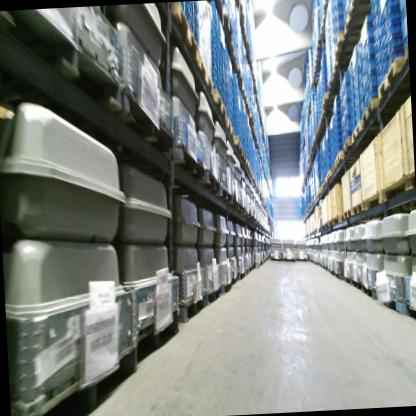pallet: (51, 17, 122, 113), (66, 337, 144, 416), (108, 76, 178, 159), (135, 304, 184, 373), (373, 56, 405, 111), (166, 144, 201, 182), (341, 1, 375, 38), (168, 4, 195, 50), (358, 94, 389, 129), (194, 53, 214, 95), (204, 279, 229, 308), (332, 34, 359, 60), (335, 147, 367, 168), (351, 121, 375, 148), (199, 165, 222, 193), (179, 294, 205, 318), (379, 290, 405, 313), (208, 89, 226, 121), (331, 56, 353, 80), (216, 113, 236, 138), (220, 11, 233, 43), (321, 90, 343, 108), (330, 159, 353, 176), (326, 167, 349, 184), (217, 182, 232, 207), (327, 76, 347, 94), (360, 281, 378, 301), (310, 60, 326, 78), (351, 274, 365, 294), (314, 32, 327, 53), (222, 46, 237, 63), (318, 11, 329, 34), (235, 143, 247, 164), (229, 192, 241, 213), (229, 61, 242, 80), (235, 2, 246, 24), (227, 271, 239, 291), (342, 139, 354, 157), (231, 136, 242, 155), (313, 128, 330, 140), (239, 84, 248, 105), (316, 120, 329, 134), (318, 106, 327, 126), (310, 135, 324, 146), (351, 0, 369, 8), (309, 144, 323, 154), (321, 176, 332, 187), (308, 81, 320, 91), (314, 51, 323, 64), (323, 0, 332, 12), (243, 158, 251, 171), (334, 270, 343, 281), (327, 264, 334, 278), (344, 271, 352, 283), (237, 269, 245, 281), (282, 257, 295, 264), (248, 112, 254, 126), (319, 182, 326, 193), (240, 202, 246, 214), (247, 168, 253, 180), (269, 257, 281, 262), (244, 266, 249, 276), (297, 257, 307, 262), (315, 188, 321, 196), (251, 263, 255, 271), (249, 266, 251, 272)
small_load_carrier: (380, 20, 401, 52), (378, 0, 402, 26), (379, 11, 400, 40), (382, 33, 402, 62), (386, 48, 405, 74), (361, 57, 378, 85), (373, 62, 389, 89), (362, 42, 378, 68), (361, 25, 374, 54), (188, 14, 199, 44), (374, 39, 386, 64), (373, 55, 386, 78), (371, 16, 384, 38), (365, 88, 378, 109), (371, 5, 383, 26), (365, 77, 379, 95), (189, 5, 199, 29), (373, 27, 383, 49), (354, 50, 364, 70), (358, 102, 369, 119), (358, 74, 366, 97), (343, 102, 353, 120), (341, 70, 350, 89), (210, 80, 220, 96), (344, 114, 352, 134), (181, 3, 189, 22), (359, 90, 367, 109), (353, 36, 363, 51), (211, 23, 220, 39), (211, 35, 219, 52), (209, 13, 218, 28), (349, 103, 358, 118), (210, 46, 218, 62), (210, 1, 218, 17), (210, 58, 219, 72), (210, 67, 219, 81), (338, 80, 344, 100), (352, 115, 361, 128), (341, 123, 347, 142), (192, 3, 199, 19), (349, 95, 356, 111), (347, 58, 353, 76), (348, 76, 355, 91), (340, 109, 345, 128), (339, 95, 344, 114), (354, 89, 359, 103), (349, 89, 355, 99), (353, 72, 357, 87), (370, 0, 380, 4)
